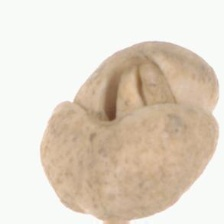L1: (93, 54, 170, 126)
L2: (38, 40, 220, 220)
